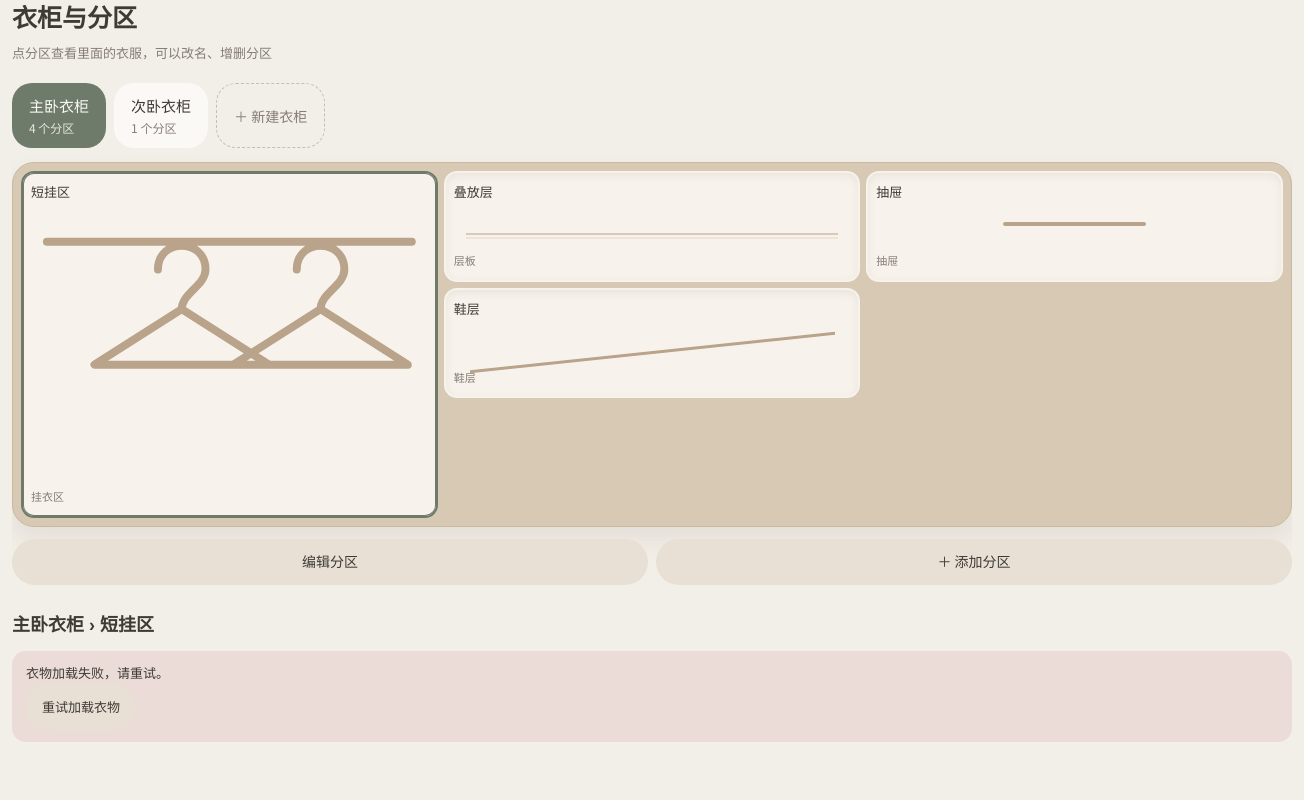
Scenario: shows truthful empty results and recovers a failed zone load with retry
The image size is (1304, 800).
Expected: the message shows "衣物加载失败", [26,663,169,682]
Click the button "重试加载衣物": [81, 707] box [26,684,136,730]
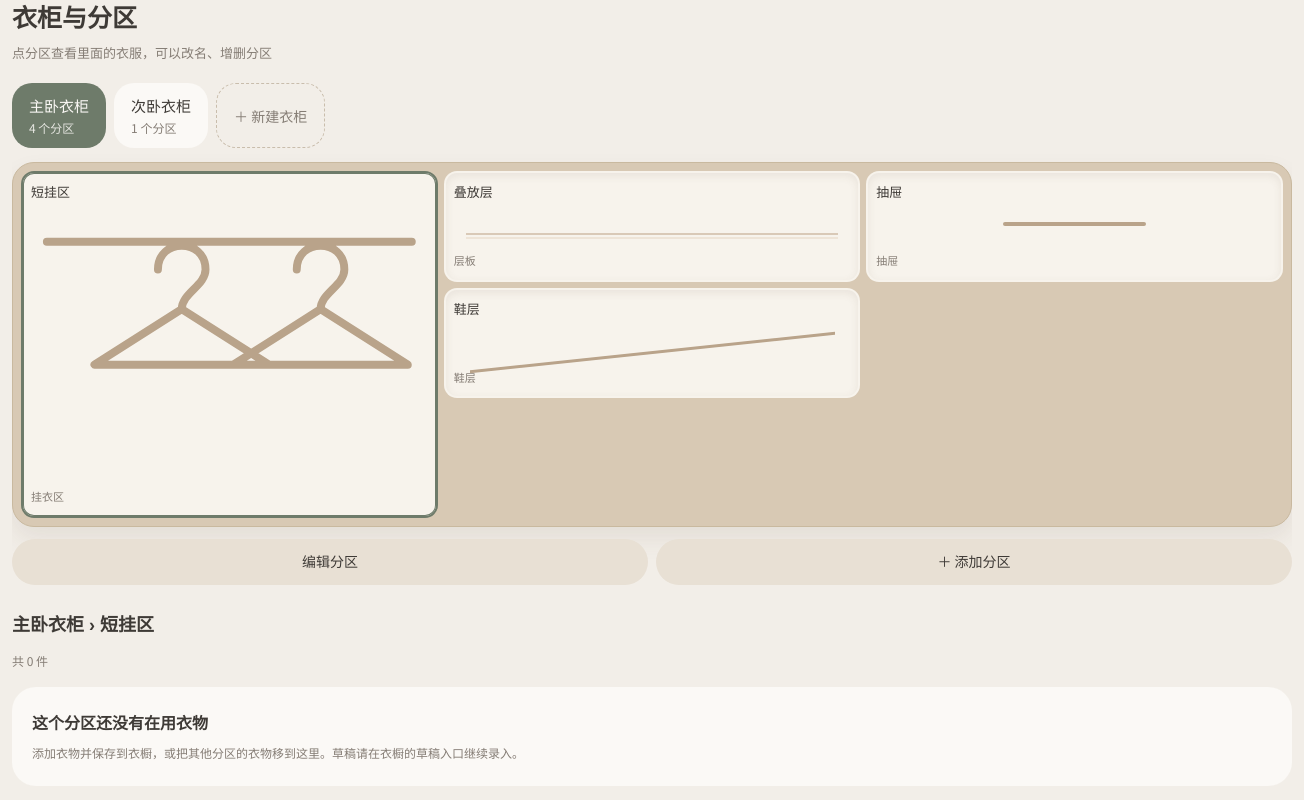
Now the text "共 0 件" is shown, box [12,652,48,669]
Now the heading "这个分区还没有在用衣物" is shown, box [32,715,208,732]
Now the message "衣物加载失败，请重试。 重试加载衣物" is gone
